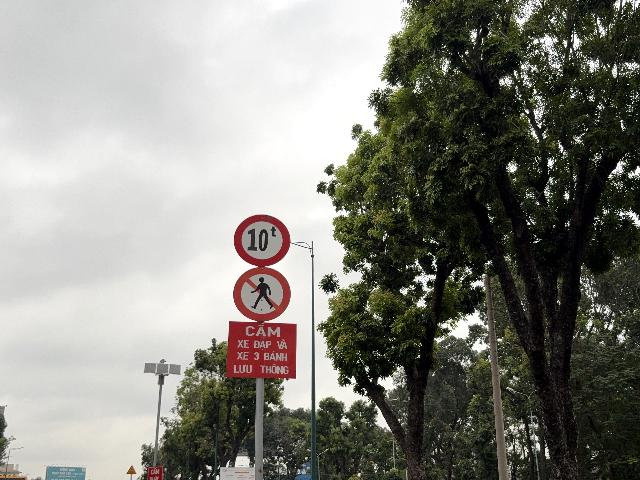cam-nguoi-di-bo: (233, 267, 291, 321)
han-che-trong-luong-xe: (234, 214, 291, 267)
